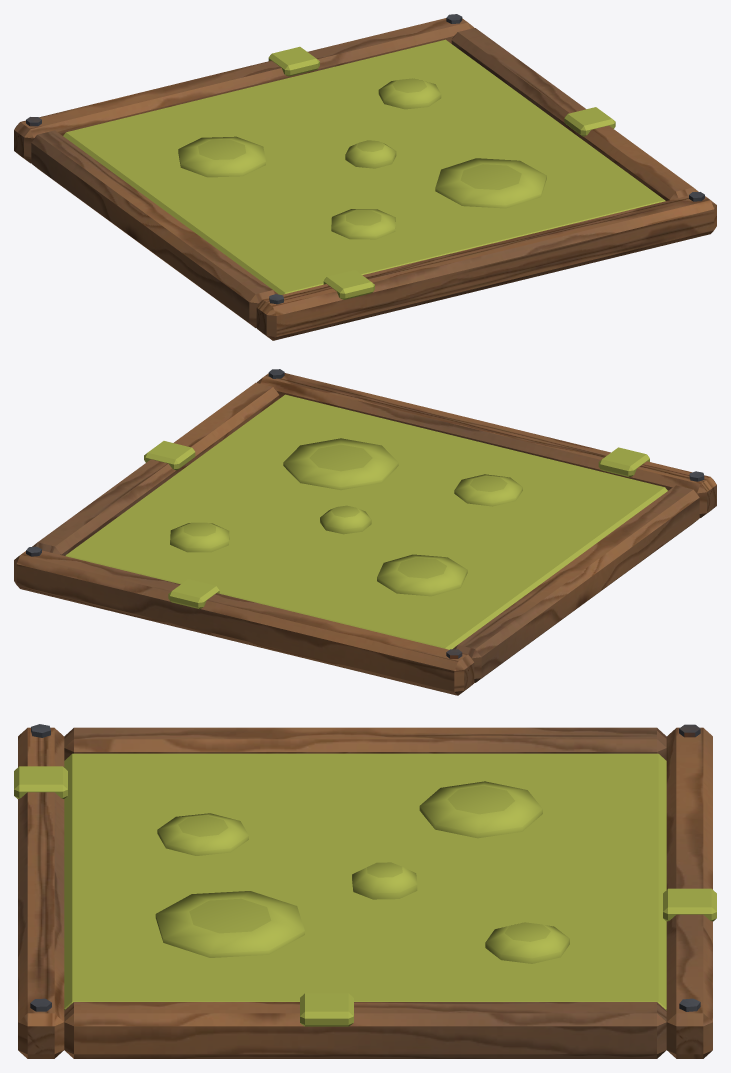
Rendered from yapiskan_zemin.glb.
The picture shows the model from 3 angles, top to bottom: view 1: azimuth 30°, elevation 25°; view 2: azimuth 150°, elevation 25°; view 3: azimuth 270°, elevation 25°; orthographic projection. The views are drawn at different scales.
Visible parts, largest first — view 1: goo, yapiskan_zemin; view 2: goo, yapiskan_zemin; view 3: goo, yapiskan_zemin.
Boxes of the visible parts, left/top/right/bottom form: goo: left=63, top=39, right=665, bottom=299; yapiskan_zemin: left=14, top=14, right=716, bottom=340; goo: left=65, top=394, right=667, bottom=649; yapiskan_zemin: left=14, top=369, right=716, bottom=695; goo: left=14, top=753, right=716, bottom=1026; yapiskan_zemin: left=18, top=724, right=712, bottom=1058.
Size of the model in its own units: 1.81 by 0.155 by 1.82.
Materials: 2 (1 with a texture image).
